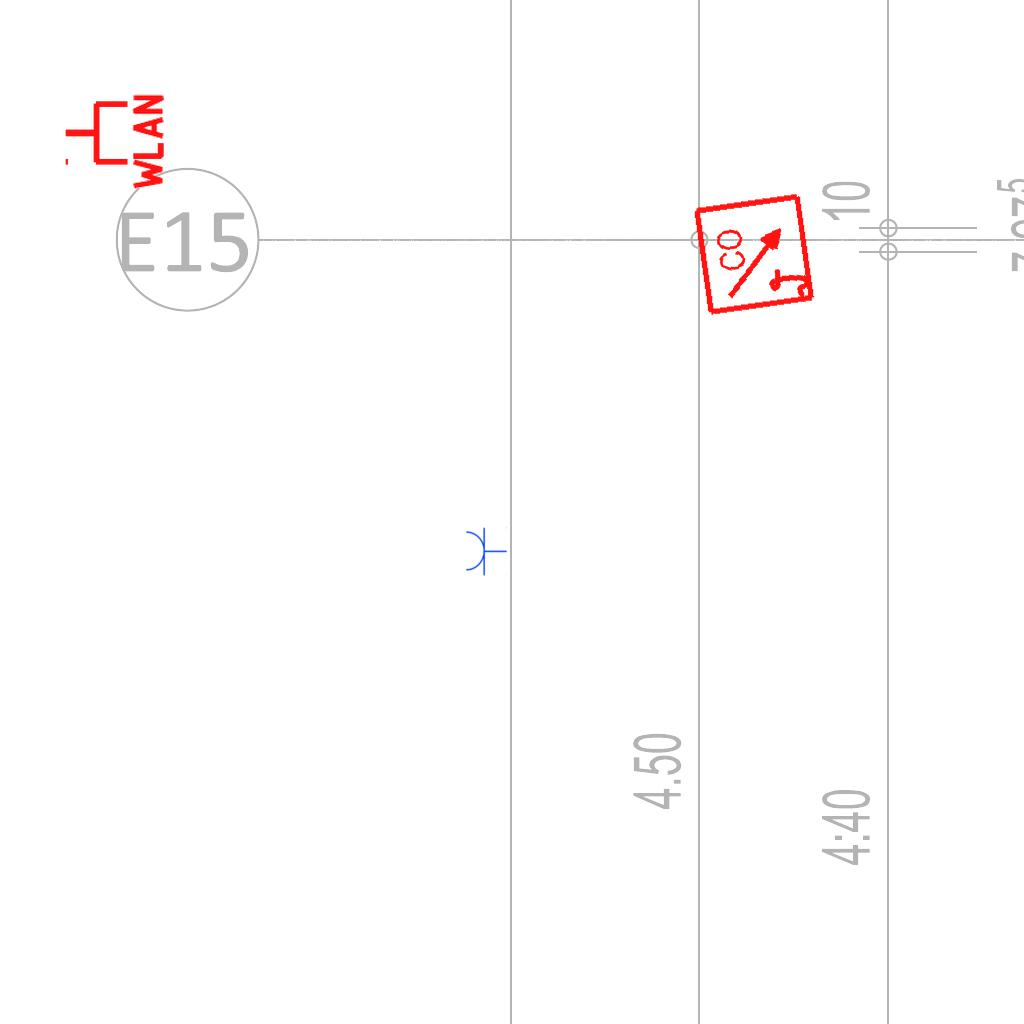ROA_Rauchmelder_optisch_mit_Signalgeber_(Sockelsirene): (691, 189, 820, 318)
Schukosteckdose_einfach: (464, 526, 507, 576)
WLAN: (61, 90, 166, 194)
